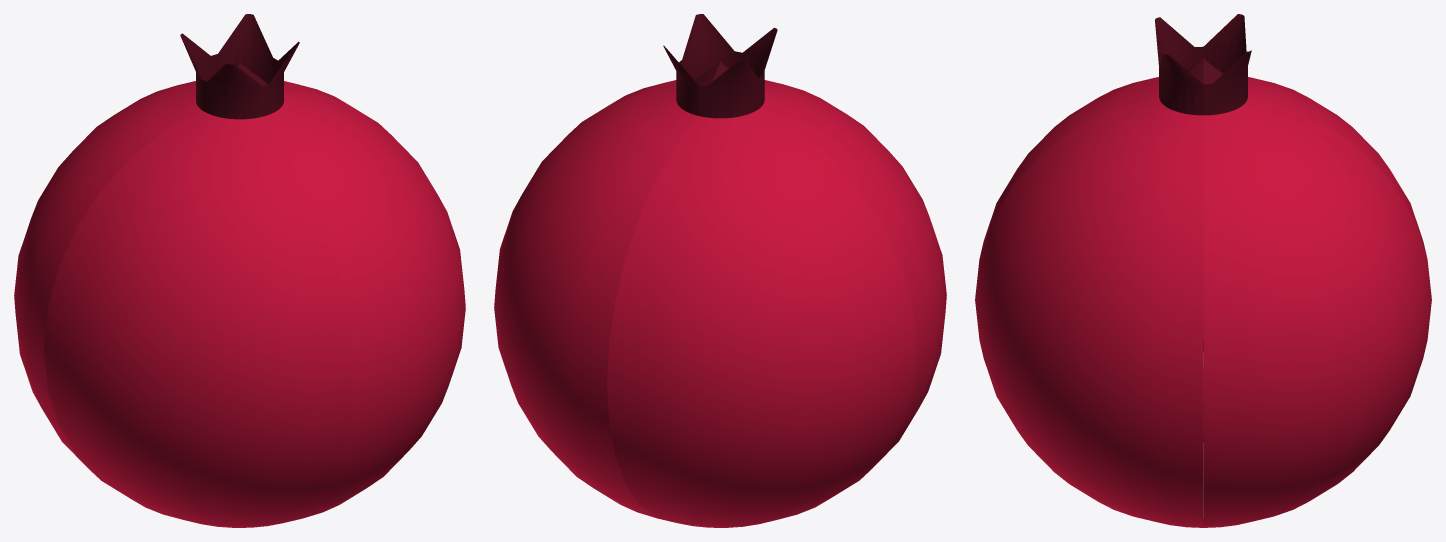
Rendered from Fruit_Pomegranate_Sliced.fbx.
3 views of the same model, side by side, from view 1: azimuth 30°, elevation 25°; view 2: azimuth 150°, elevation 25°; view 3: azimuth 270°, elevation 25° (orthographic).
Visible parts, largest first — view 1: Pomegranate_Quarter4, Pomegranate_Quarter2, Pomegranate_Quarter1, Pomegranate_Quarter3; view 2: Pomegranate_Quarter1, Pomegranate_Quarter3, Pomegranate_Quarter4, Pomegranate_Quarter2; view 3: Pomegranate_Quarter2, Pomegranate_Quarter3, Pomegranate_Quarter1, Pomegranate_Quarter4.
Boxes of the visible parts, x1,y1,x2,y2 form: Pomegranate_Quarter4: (44, 63, 352, 527); Pomegranate_Quarter2: (240, 41, 465, 518); Pomegranate_Quarter1: (14, 33, 239, 477); Pomegranate_Quarter3: (218, 14, 347, 104); Pomegranate_Quarter1: (607, 61, 916, 527); Pomegranate_Quarter3: (494, 45, 720, 518); Pomegranate_Quarter4: (721, 27, 946, 477); Pomegranate_Quarter2: (612, 14, 742, 103); Pomegranate_Quarter2: (975, 53, 1203, 527); Pomegranate_Quarter3: (1203, 50, 1431, 527); Pomegranate_Quarter1: (1203, 14, 1426, 256); Pomegranate_Quarter4: (980, 17, 1203, 256).
Bounding box in the file's own units: 200 × 228 × 200.
